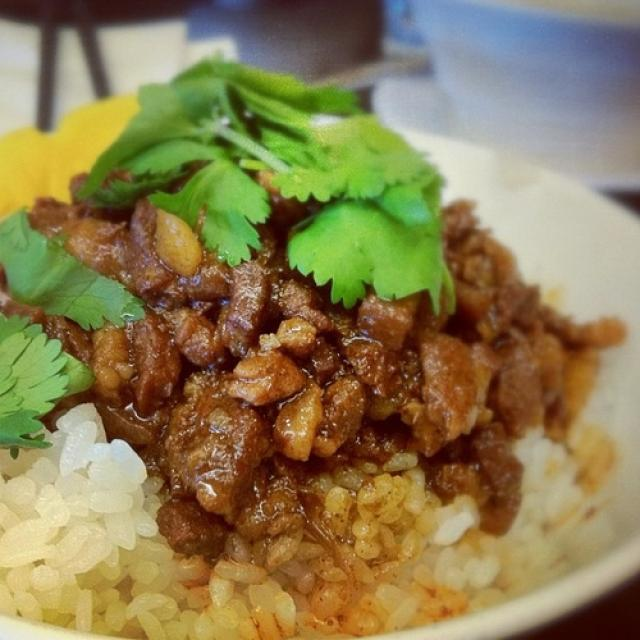猪肉菜式: (13, 40, 627, 618)
